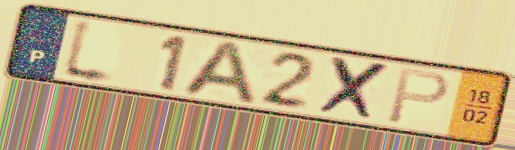1: (156, 33, 190, 93)
2: (256, 50, 320, 112)
A: (176, 38, 260, 108)
L: (57, 15, 118, 90)
P: (384, 66, 453, 126)
X: (315, 54, 395, 124)
